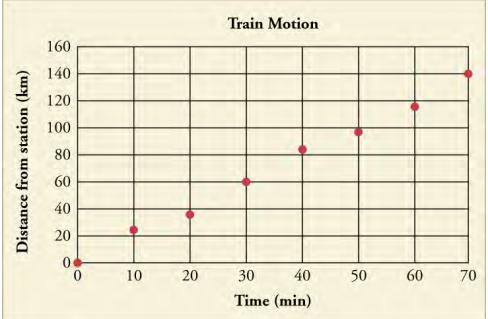axis: (74, 259, 473, 267), (74, 40, 82, 268)
point: (238, 173, 258, 192), (181, 206, 201, 222), (294, 143, 312, 159), (349, 125, 369, 139), (126, 222, 144, 237), (459, 67, 477, 82), (407, 99, 424, 113), (71, 255, 86, 270)
